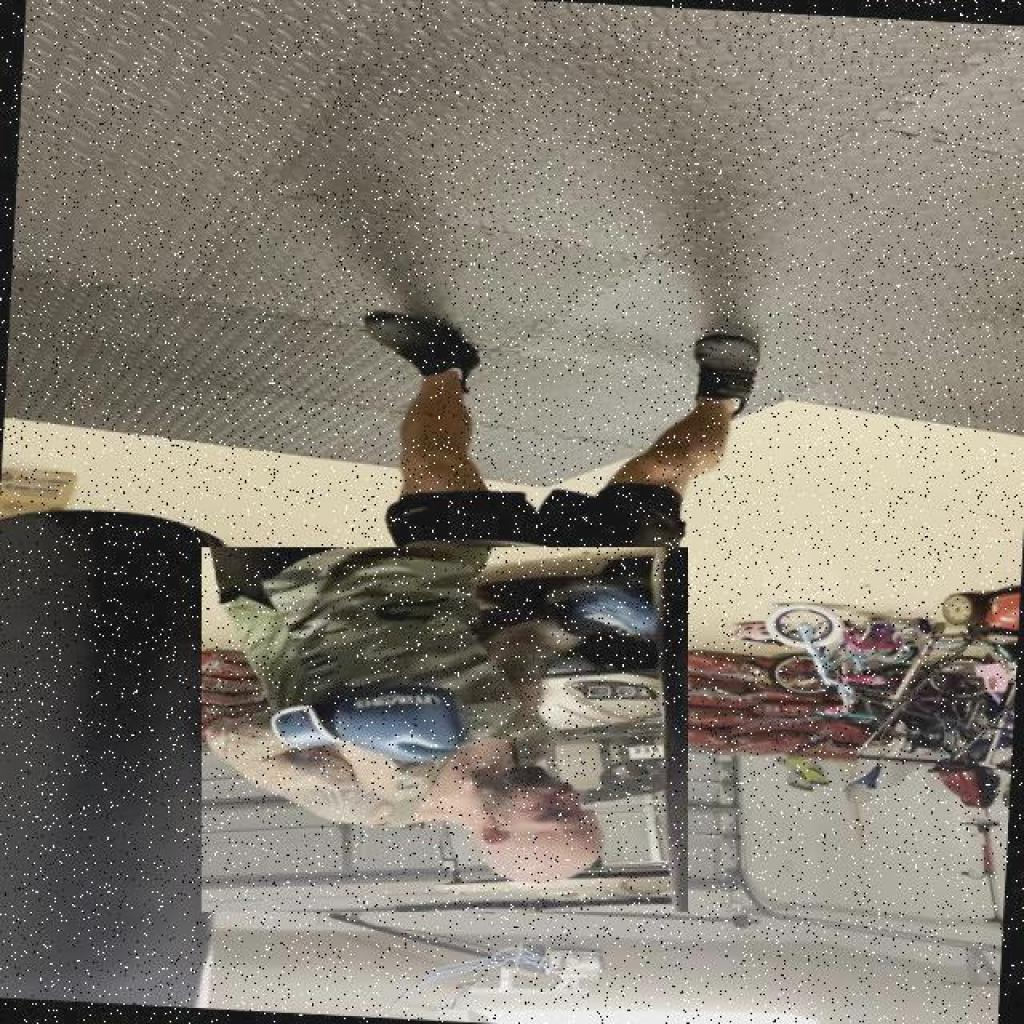bag: (2, 500, 256, 1010)
uppercut: (202, 547, 687, 913)
